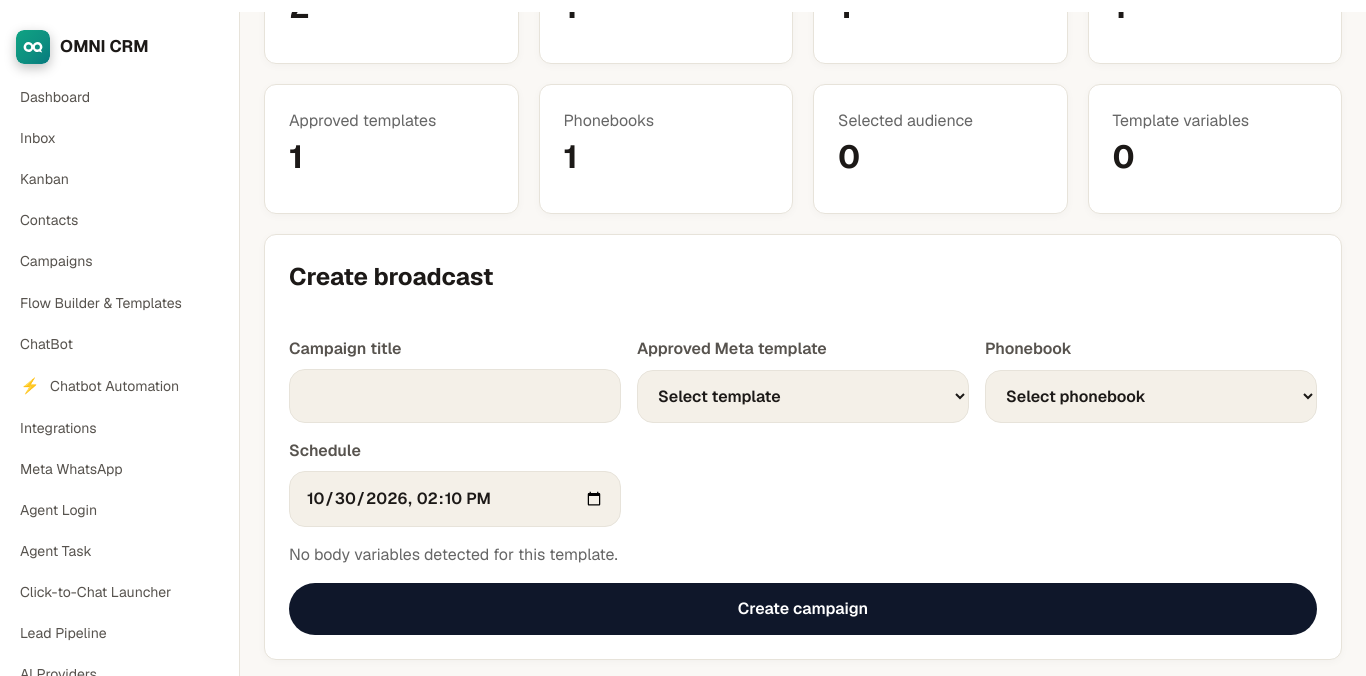
Scenario: App routing shell › renders the send campaign composer and submits mapped variables
The width and height of the screenshot is (1366, 676).
(page scrolled)
Expected: the text "Approved templates" is shown, [289,110,436,131]
Expected: the text "Selected audience" is shown, [838,110,973,131]
Type "January delivery update" into the field labelled "Campaign title" at (455, 396), box [289,369,621,423]
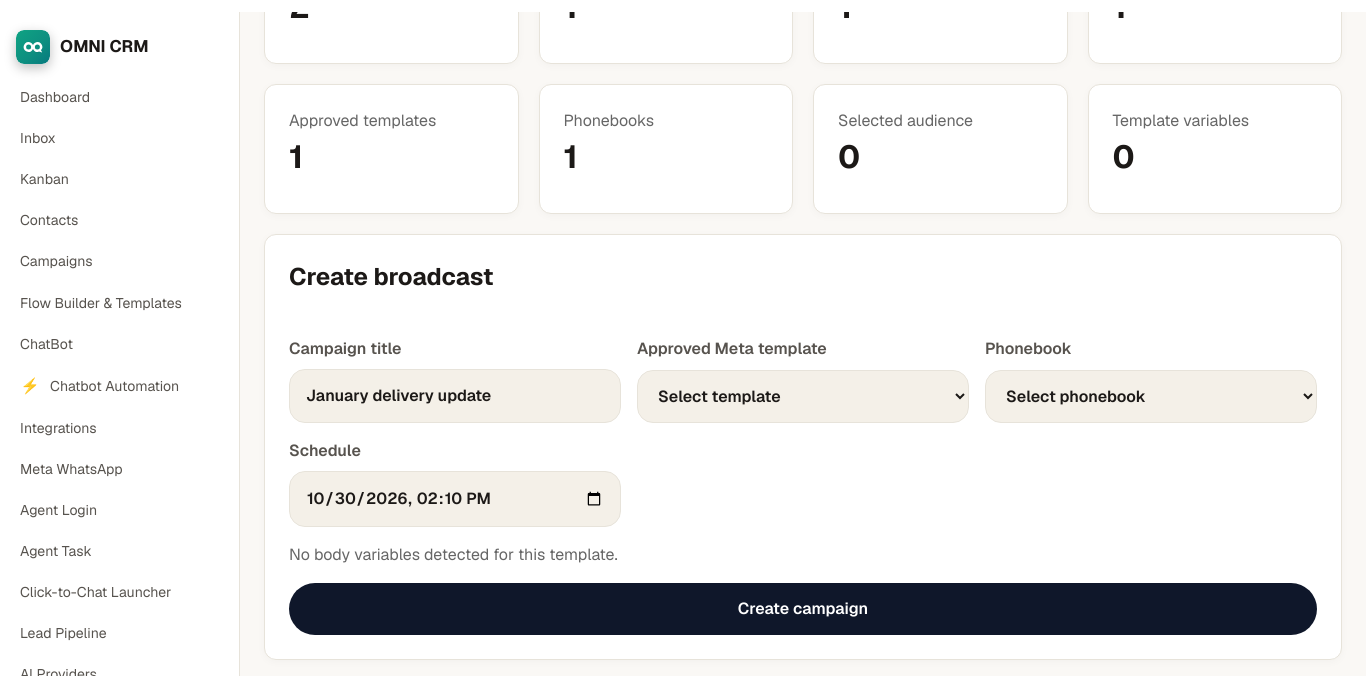
Select "order_update - APPROVED" in the dropdown labelled "Approved Meta template" at (803, 396), box [637,370,969,423]
(page scrolled)
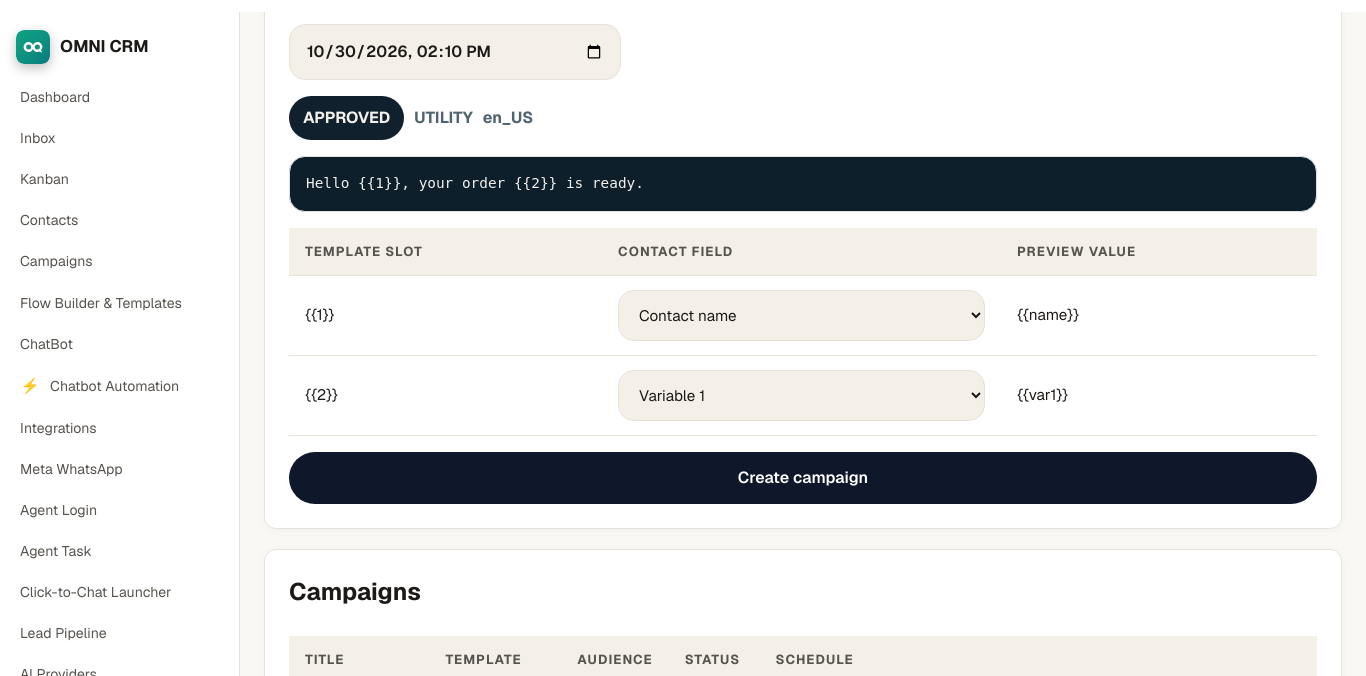
Expected: the text "Hello {{1}}, your order {{2}} is ready." is shown, [289,156,1317,212]
Expected: the dropdown named "Variable 1 contact field" shows "Contact name", [618,290,985,341]
Expected: the dropdown named "Variable 2 contact field" shows "Variable 1"
Select "Mobile number" in the dropdown named "Variable 2 contact field" at (801, 396), box [618,370,985,421]
(page scrolled)
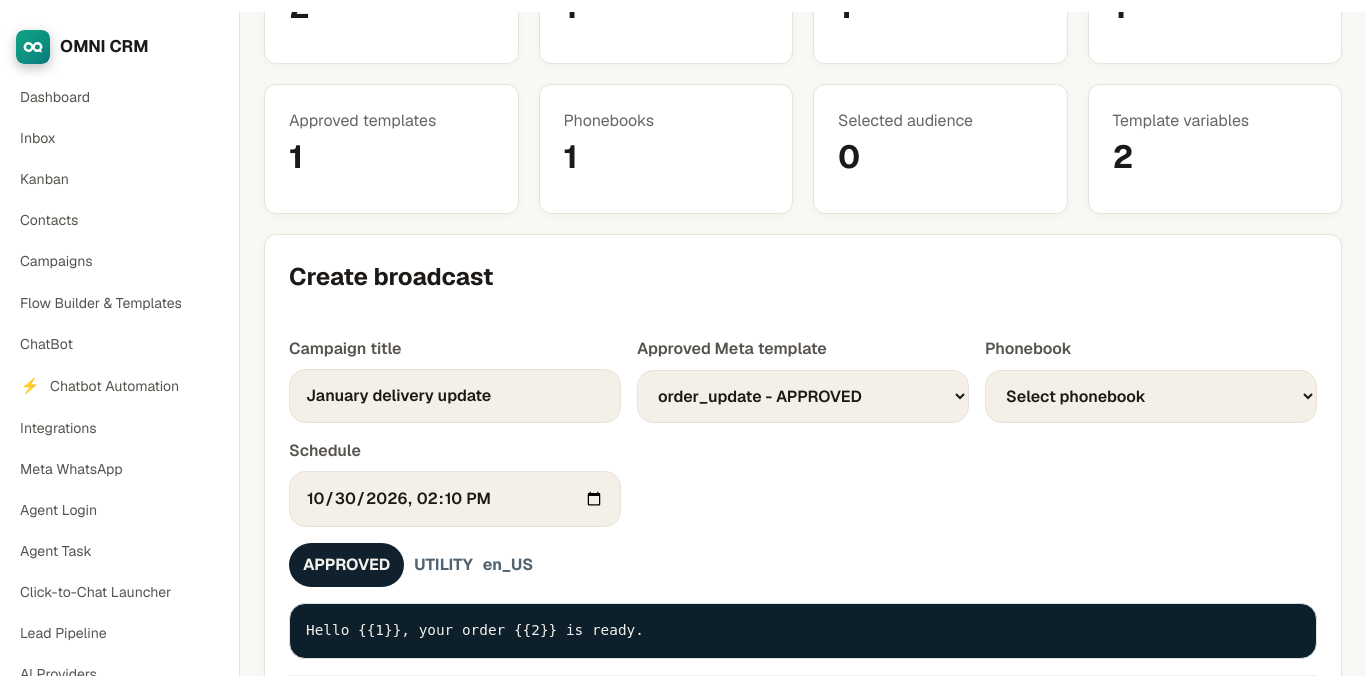
Select "Customers (2 contacts)" in the dropdown labelled "Phonebook" at (1151, 396), box [985,370,1317,423]
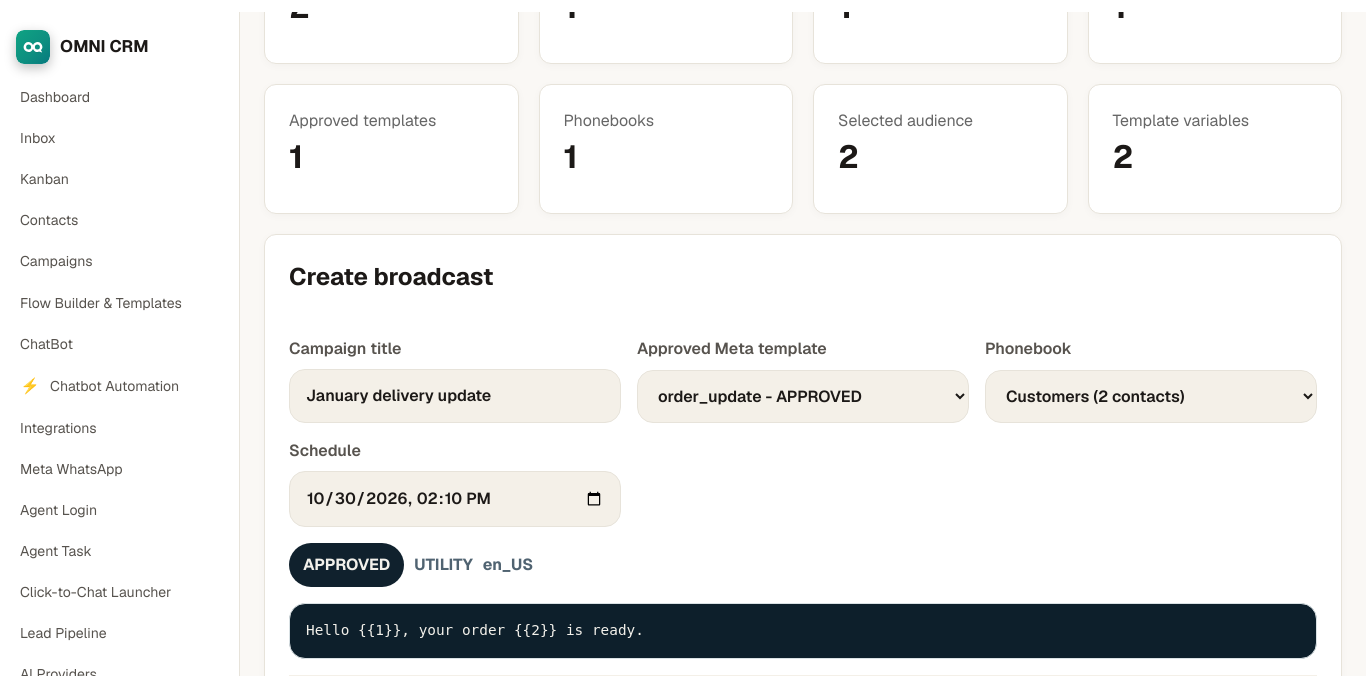
Replace the text in the field labelled "Schedule" with "2027-01-02T10:00" at (455, 499), box [289,471,621,527]
(page scrolled)
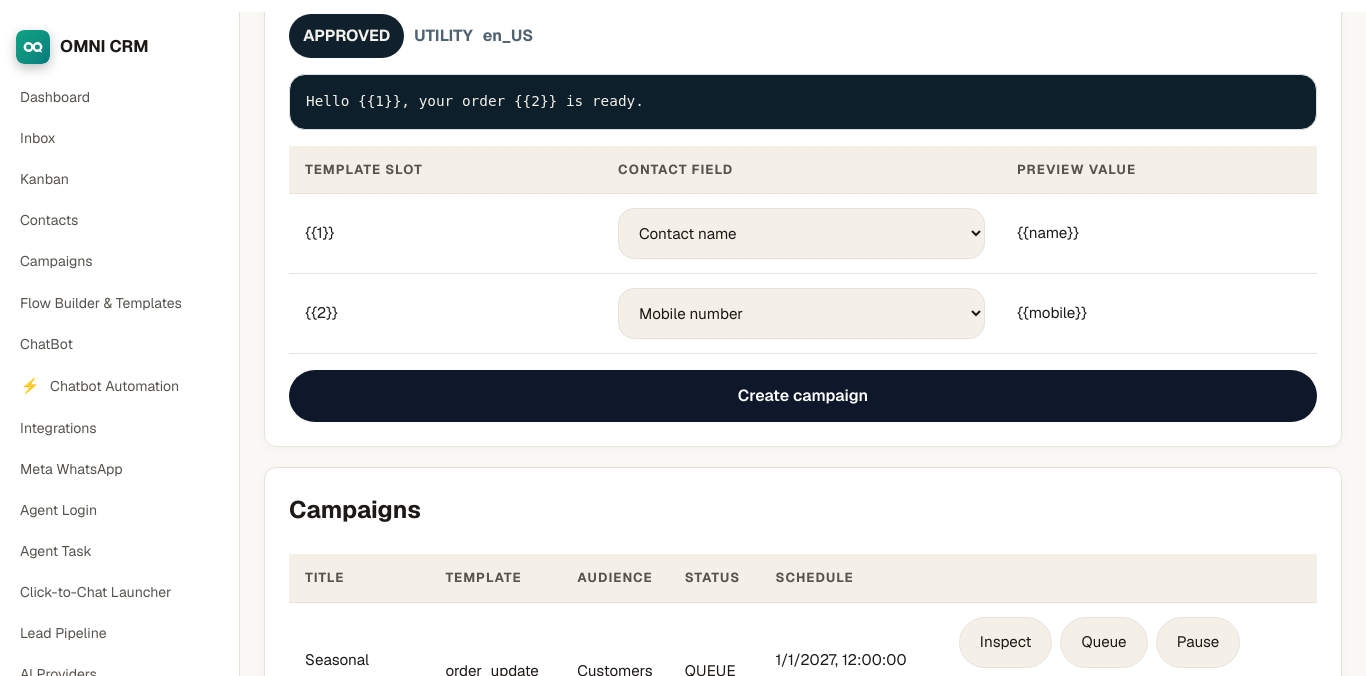
Click the button "Create campaign" at (803, 396), box [289,370,1317,422]
(page scrolled)
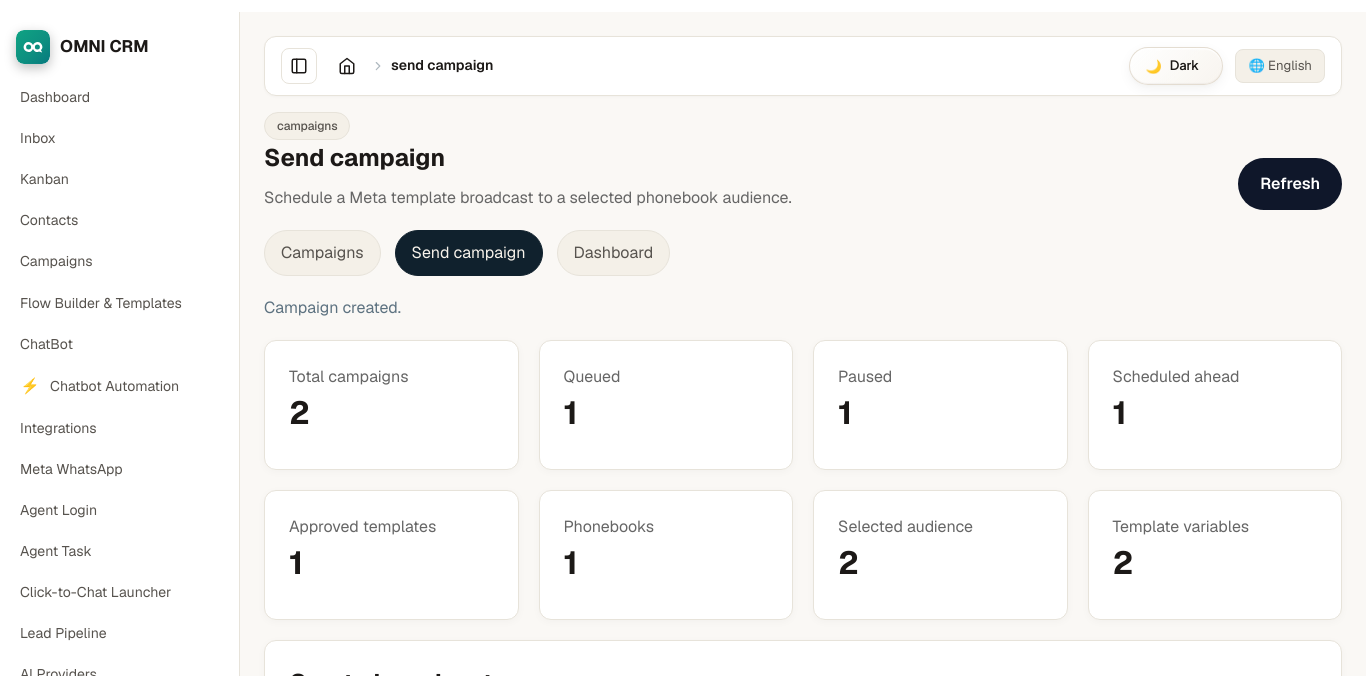
Expected: the text "Campaign created." is shown, [264,297,401,318]
